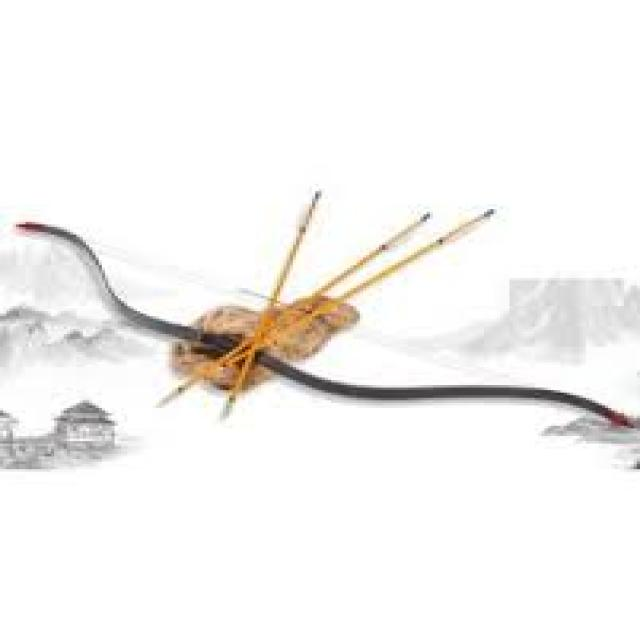X-Bow: (11, 218, 634, 434)
